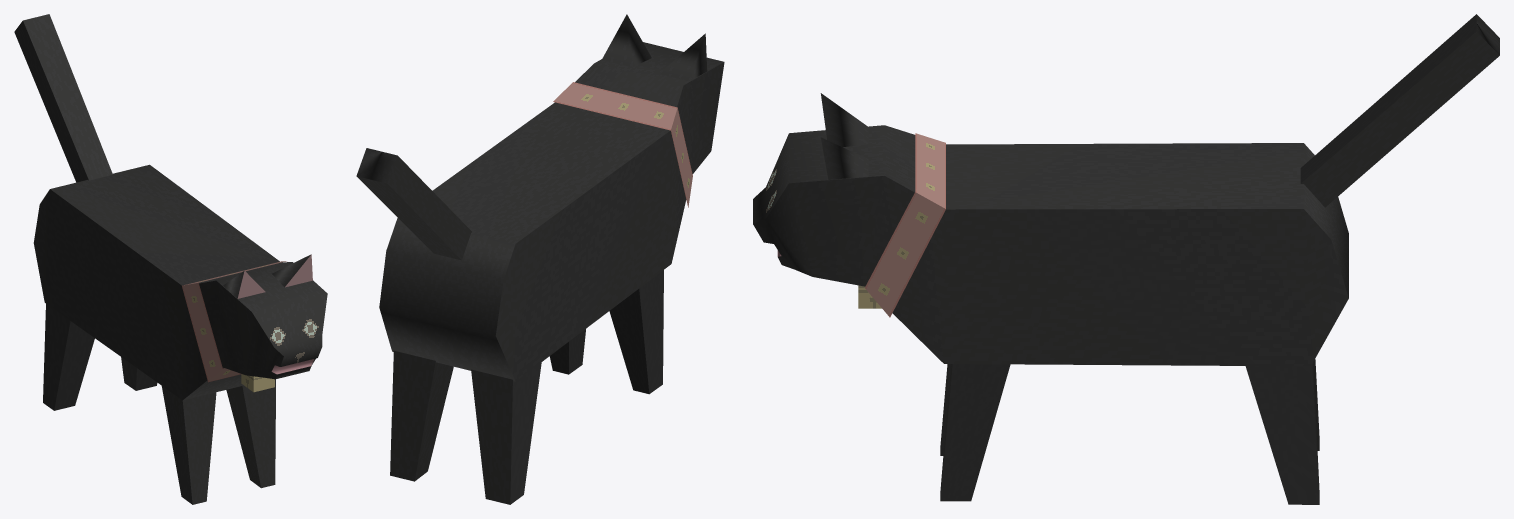
The model's file is 01fd_Black_Cat.glb.
3 views of the same model, side by side, from view 1: azimuth 30°, elevation 25°; view 2: azimuth 150°, elevation 25°; view 3: azimuth 270°, elevation 25° (orthographic). The views are drawn at different scales.
Parts seen in each view (by area): view 1: part_0; view 2: part_0; view 3: part_0.
Part boxes in pixels (x1,y1,x2,y2): part_0: (14, 14, 327, 504); part_0: (356, 14, 724, 504); part_0: (753, 14, 1499, 504).
Size of the model in its own units: 0.1266 by 0.3829 by 0.5742.
1 material, 1 textured.
